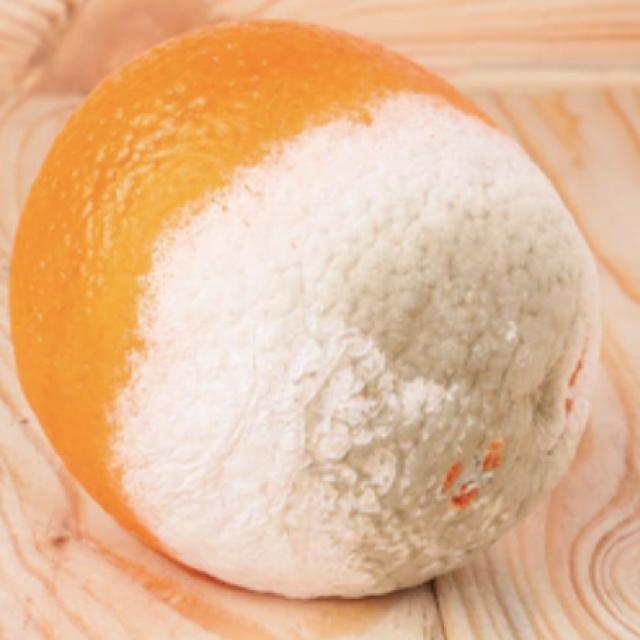rotten-orange: (8, 18, 604, 599)
